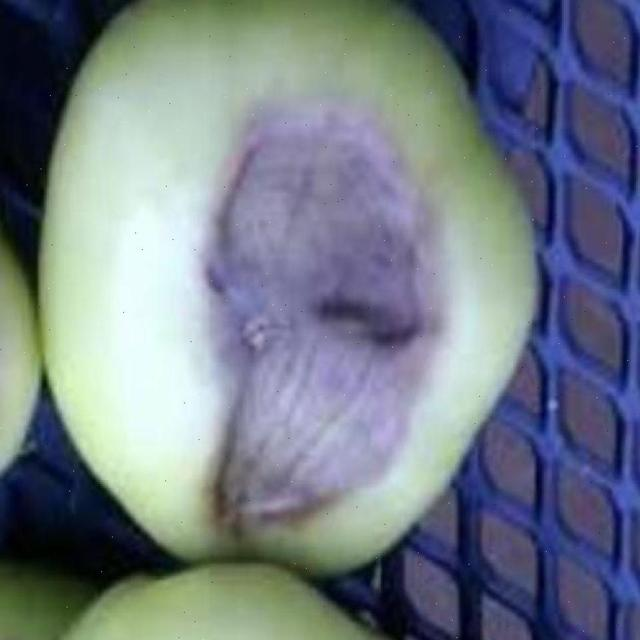Blossom End Rot Fruit: (134, 66, 304, 359)
